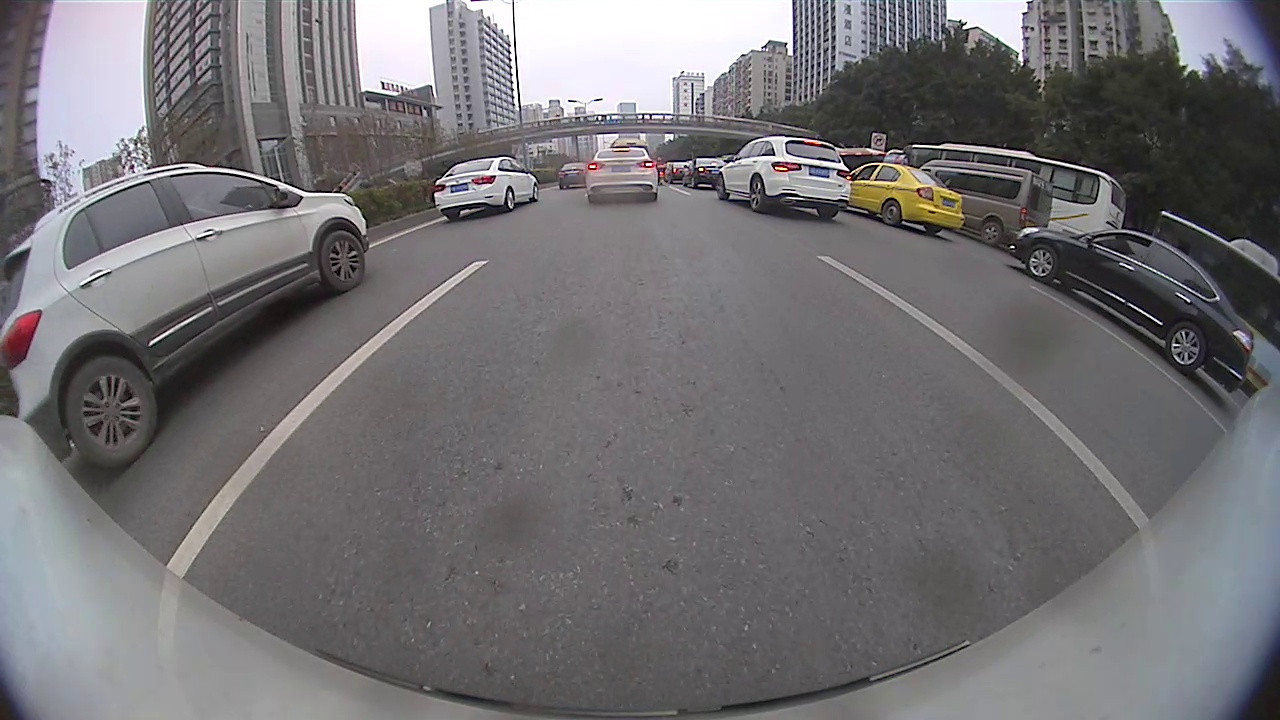bus: (1150, 208, 1279, 383)
car: (2, 155, 372, 470), (1008, 226, 1256, 395), (717, 137, 862, 222), (915, 166, 1055, 248), (844, 163, 966, 237), (433, 156, 544, 222), (588, 147, 662, 205)
front: (318, 232, 365, 291), (1023, 244, 1059, 281), (713, 170, 727, 200)
rear: (67, 354, 158, 468), (1163, 322, 1208, 373), (979, 220, 1005, 245), (748, 174, 765, 210), (883, 198, 901, 226), (505, 186, 516, 211)
